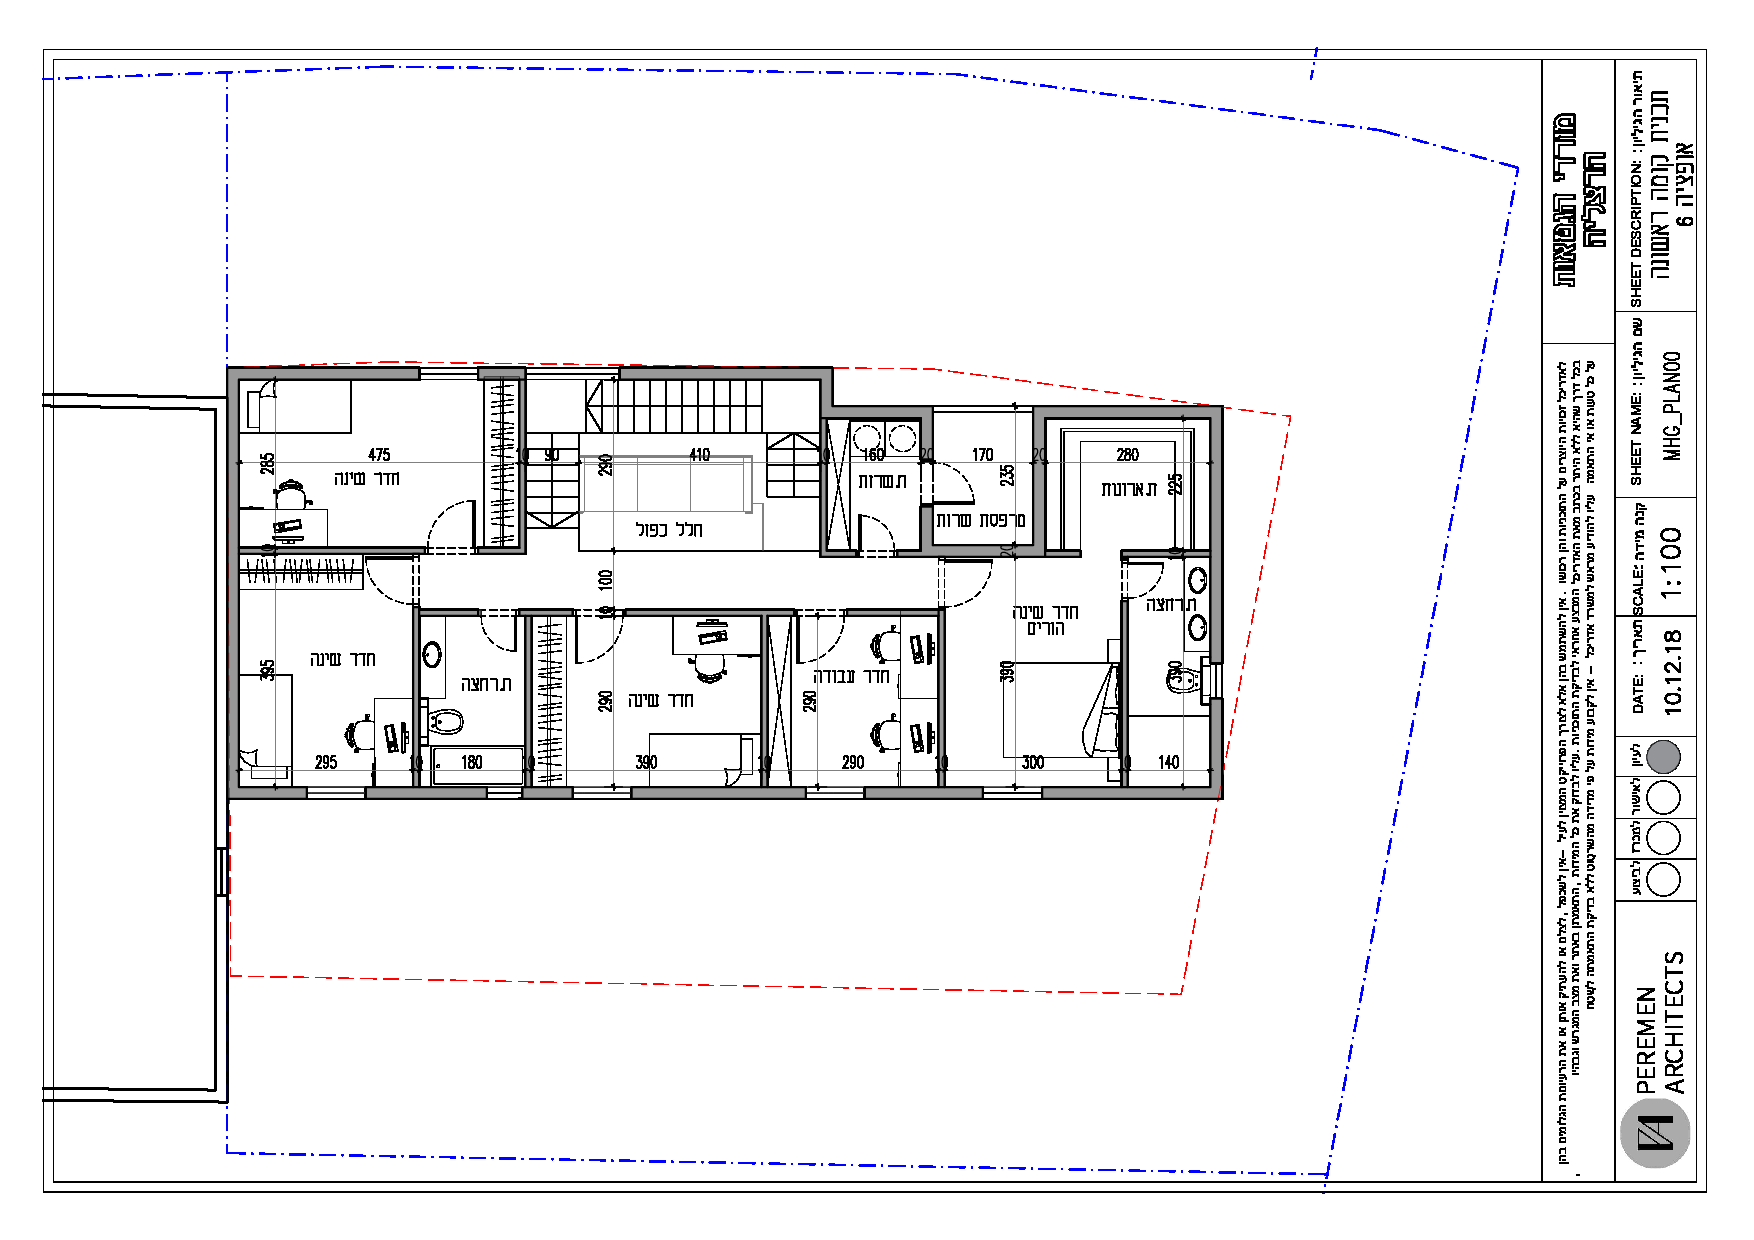door: (411, 490, 480, 542), (794, 621, 858, 670), (572, 621, 624, 674), (935, 459, 986, 510), (468, 623, 519, 662), (858, 509, 892, 548)
wall: (229, 370, 238, 747), (1213, 411, 1223, 659), (624, 368, 825, 378), (1047, 788, 1216, 797), (1035, 408, 1220, 415), (636, 788, 803, 794), (825, 407, 929, 416), (867, 790, 980, 797), (370, 789, 482, 796), (925, 548, 998, 556), (1035, 468, 1041, 556), (923, 513, 930, 554)
window: (980, 780, 1045, 811), (803, 778, 867, 804), (305, 780, 369, 803), (569, 782, 636, 803), (1206, 662, 1229, 701)
